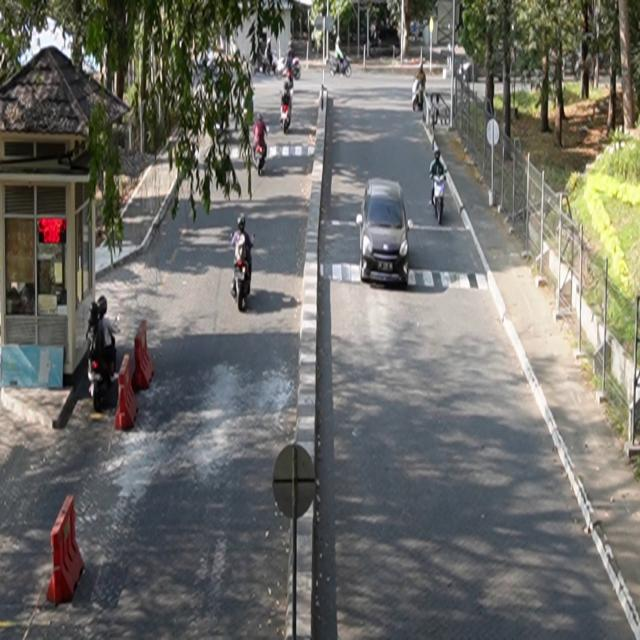car: (357, 178, 412, 288)
